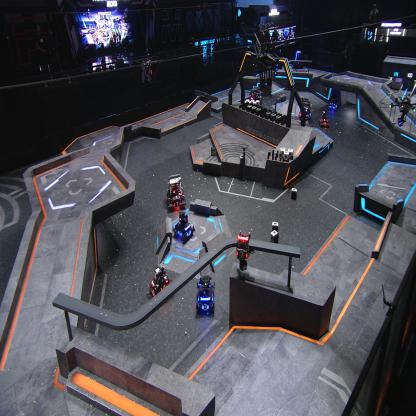car: (195, 274, 215, 315), (166, 173, 186, 211), (149, 266, 172, 299), (173, 210, 195, 244), (248, 86, 263, 109), (298, 96, 311, 122), (318, 110, 330, 127), (297, 111, 308, 128), (328, 96, 338, 110)
